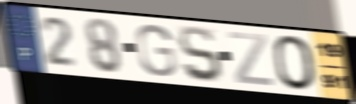2: (40, 15, 79, 69)
8: (84, 17, 124, 76)
G: (134, 23, 179, 79)
O: (271, 33, 319, 92)
S: (176, 24, 225, 84)
Z: (226, 30, 276, 88)
